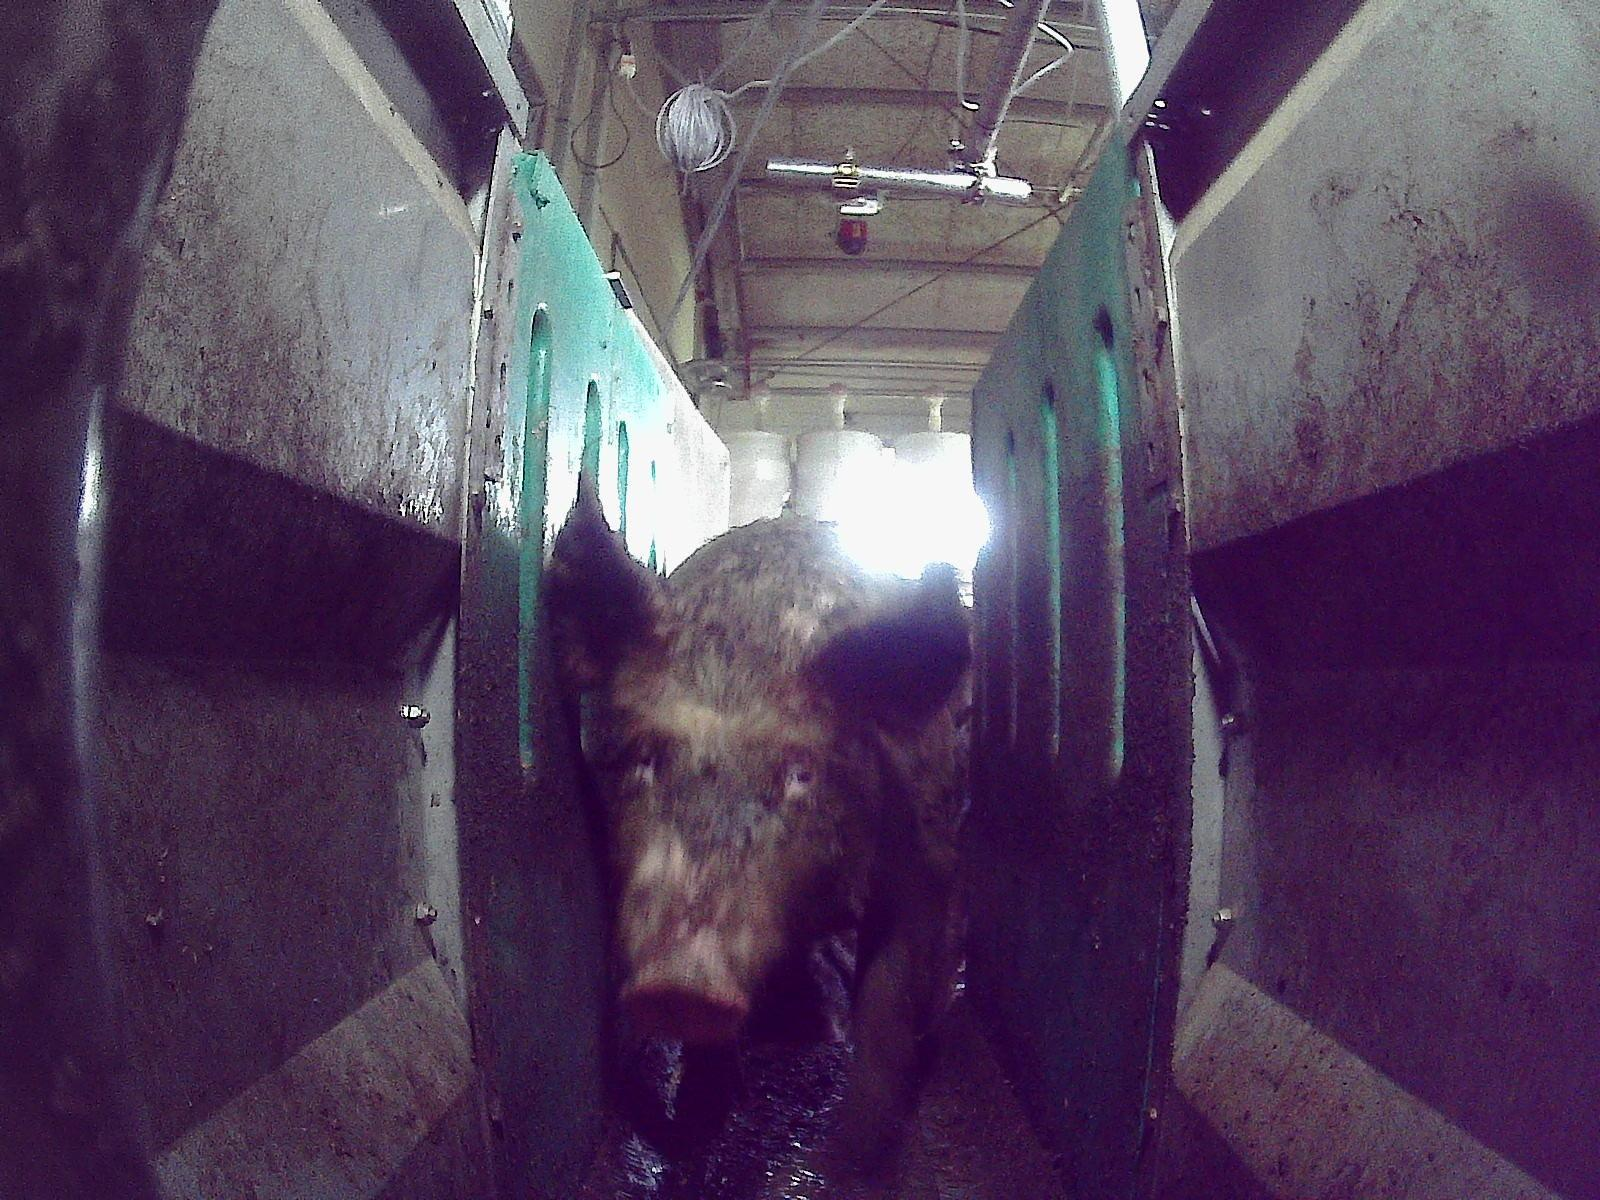Face: (592, 655, 841, 1041)
